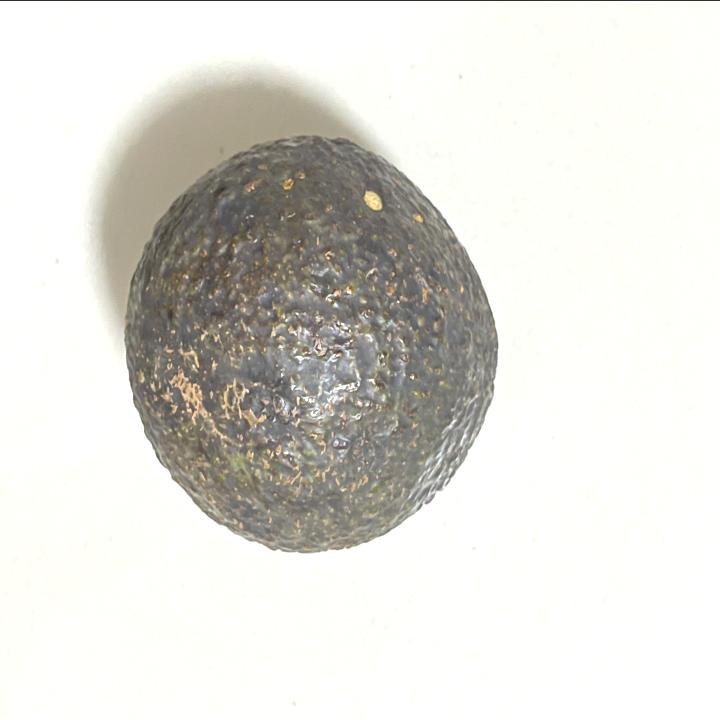Level2: (120, 126, 510, 566)
